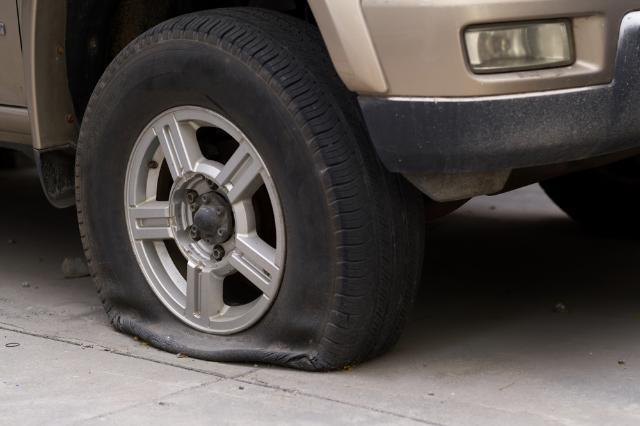tire flat: (74, 5, 429, 372)
